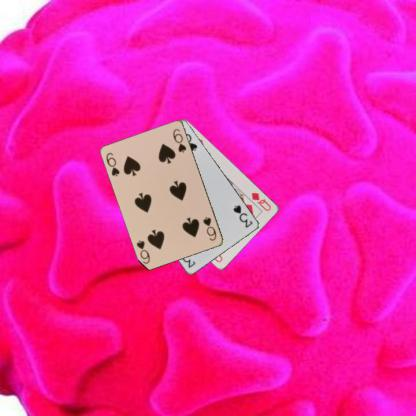3s: (231, 202, 254, 229)
6s: (200, 214, 218, 242), (103, 150, 121, 178)
Qd: (249, 190, 273, 213)
